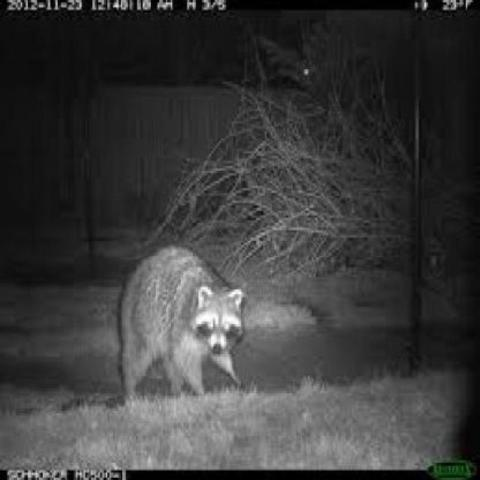small_animal: (116, 244, 248, 403)
